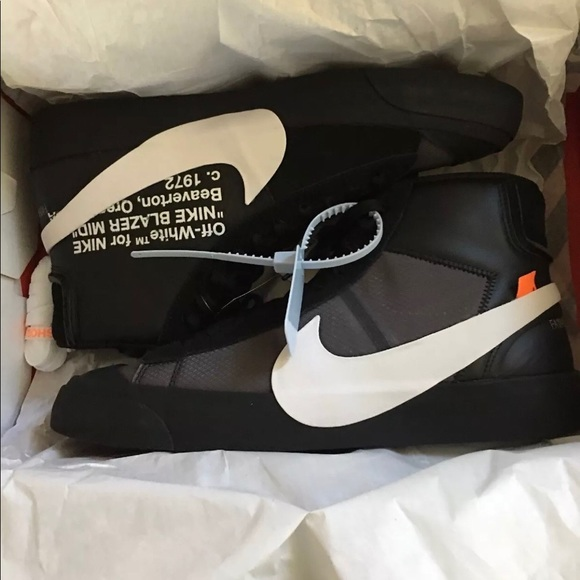Nike Blazer Grim Reaper: (47, 169, 580, 463), (15, 62, 528, 350)
